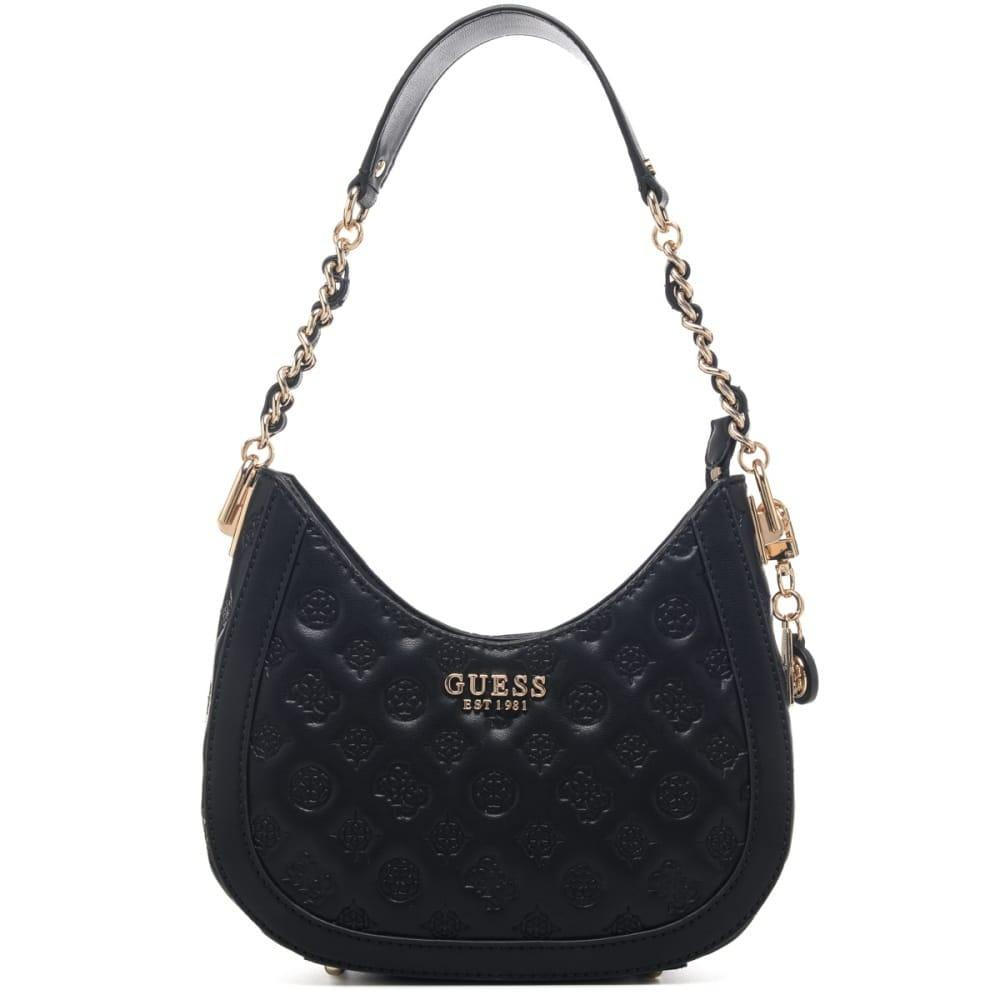GUESS: (444, 672, 546, 698)
